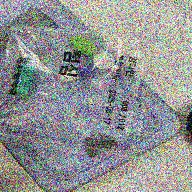러키펜정: (93, 51, 116, 70)
씨엠지세파클러캡슐: (58, 64, 97, 82)
에르도캡슐: (16, 63, 34, 95)
휴티렌정: (69, 35, 96, 56)
